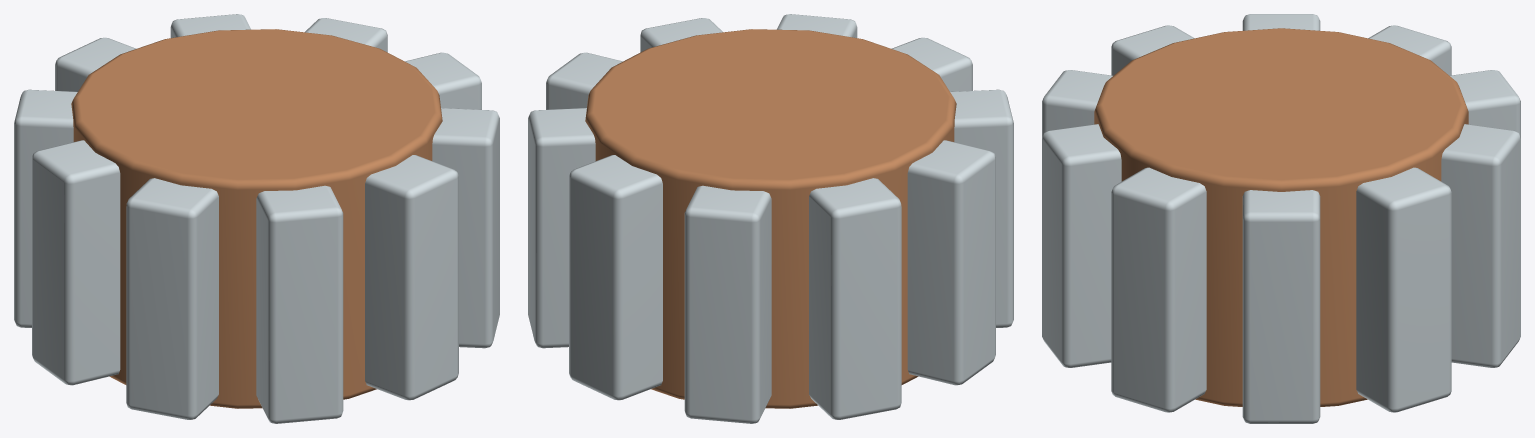
Rendered from obstacle-gear.glb.
The picture shows the model from 3 angles, left to right: view 1: azimuth 30°, elevation 25°; view 2: azimuth 150°, elevation 25°; view 3: azimuth 270°, elevation 25°; orthographic projection.
Visible parts, largest first — view 1: Gear hub, Gear tooth.008, Gear tooth.006, Gear tooth.005, Gear tooth.007, Gear tooth.009, Gear tooth.004, Gear tooth, Gear tooth.003, Gear tooth.001, Gear tooth.002; view 2: Gear hub, Gear tooth.002, Gear tooth.004, Gear tooth.005, Gear tooth.003, Gear tooth.001, Gear tooth.006, Gear tooth, Gear tooth.007, Gear tooth.009, Gear tooth.008; view 3: Gear hub, Gear tooth.001, Gear tooth.009, Gear tooth, Gear tooth.002, Gear tooth.008, Gear tooth.003, Gear tooth.007, Gear tooth.004, Gear tooth.006, Gear tooth.005.
Part boxes in pixels (<box>): Gear hub: <box>71,29,442,408</box>; Gear tooth.008: <box>365,155,458,400</box>; Gear tooth.006: <box>126,178,218,419</box>; Gear tooth.005: <box>32,140,120,385</box>; Gear tooth.007: <box>256,185,343,423</box>; Gear tooth.009: <box>432,108,499,348</box>; Gear tooth.004: <box>14,89,77,327</box>; Gear tooth: <box>405,52,481,109</box>; Gear tooth.003: <box>55,37,136,91</box>; Gear tooth.001: <box>305,18,387,52</box>; Gear tooth.002: <box>170,14,250,37</box>; Gear hub: <box>585,29,956,408</box>; Gear tooth.002: <box>569,155,662,400</box>; Gear tooth.004: <box>809,178,901,419</box>; Gear tooth.005: <box>907,140,995,385</box>; Gear tooth.003: <box>684,185,771,423</box>; Gear tooth.001: <box>528,108,595,348</box>; Gear tooth.006: <box>950,89,1013,327</box>; Gear tooth: <box>546,52,622,109</box>; Gear tooth.007: <box>891,37,972,91</box>; Gear tooth.009: <box>640,18,722,52</box>; Gear tooth.008: <box>777,14,857,37</box>; Gear hub: <box>1094,28,1468,406</box>; Gear tooth.001: <box>1356,167,1451,412</box>; Gear tooth.009: <box>1111,167,1206,412</box>; Gear tooth: <box>1242,190,1320,423</box>; Gear tooth.002: <box>1441,124,1520,367</box>; Gear tooth.008: <box>1042,124,1121,367</box>; Gear tooth.003: <box>1450,70,1520,138</box>; Gear tooth.007: <box>1042,70,1112,138</box>; Gear tooth.004: <box>1368,25,1451,75</box>; Gear tooth.006: <box>1111,25,1194,75</box>; Gear tooth.005: <box>1242,14,1320,30</box>.
Bounding box in the file's own units: 1.24 × 0.65 × 1.23.
